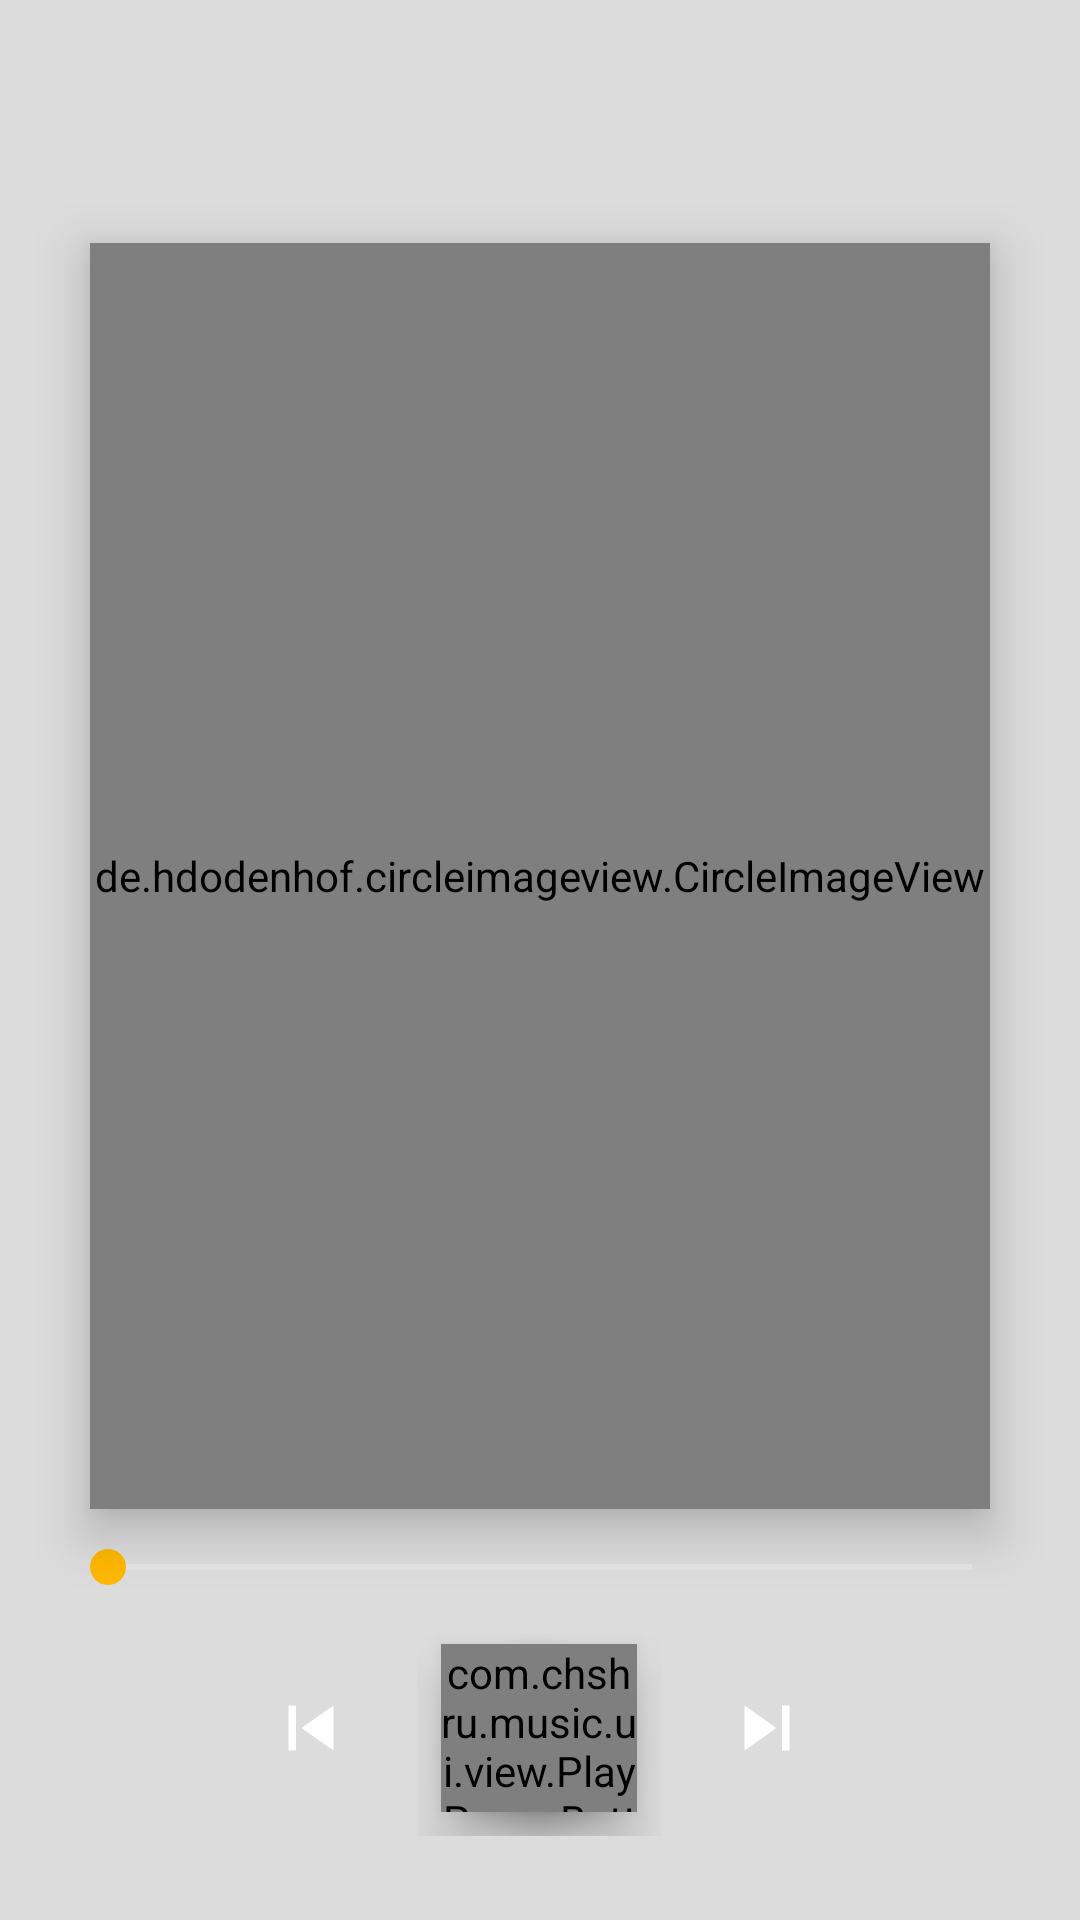

Named icons in this screenshot (1080x1920) and their centers, [x,y]:
skip next: [767,1728]
skip previous: [311,1728]
